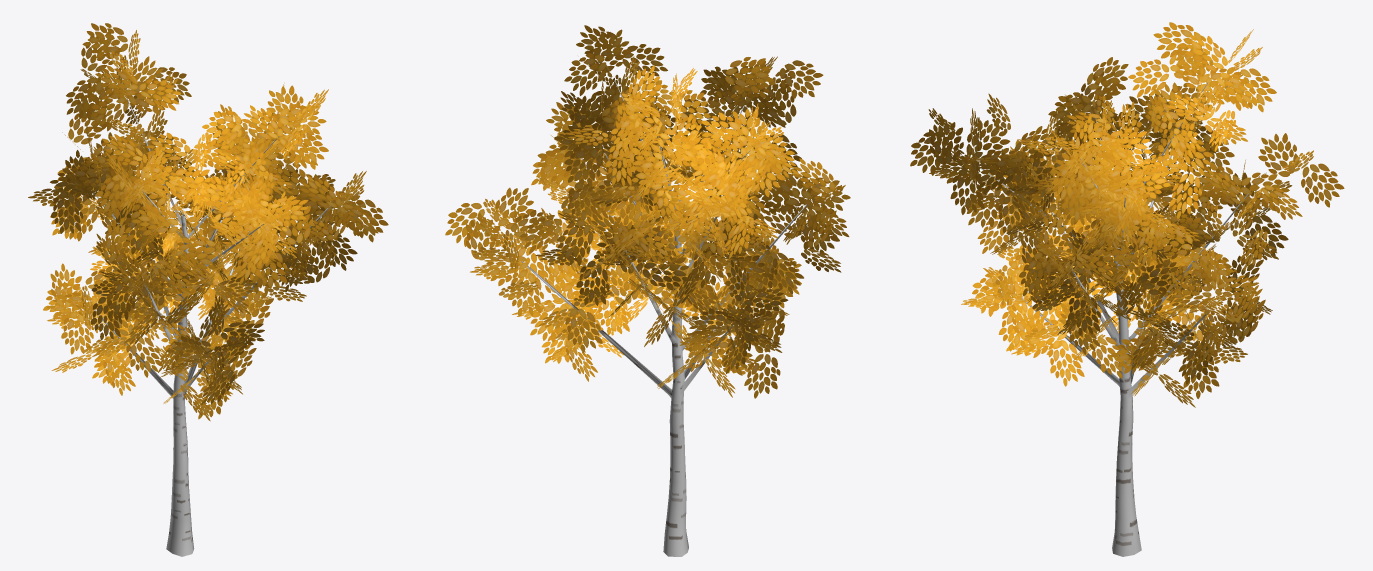
File: stylizedtree03b.glb
3 renders of one model, left to right at view 1: azimuth 30°, elevation 25°; view 2: azimuth 150°, elevation 25°; view 3: azimuth 270°, elevation 25°, orthographic. The views are drawn at different scales.
Visible parts, largest first — view 1: stylizedTree03.001; view 2: stylizedTree03.001; view 3: stylizedTree03.001.
Boxes of the visible parts, x1,y1,x2,y2 form: stylizedTree03.001: (28,23,388,556); stylizedTree03.001: (445,25,850,556); stylizedTree03.001: (910,22,1344,556).
Size of what is drawn, in the model's own units: 13.67 by 19.68 by 15.72.
Materials: 2 (2 with a texture image).
